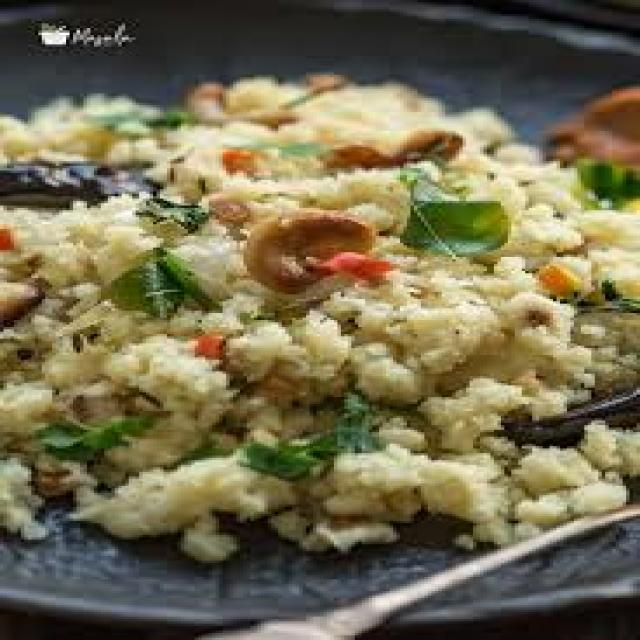Wet Waste: (6, 82, 640, 545)
